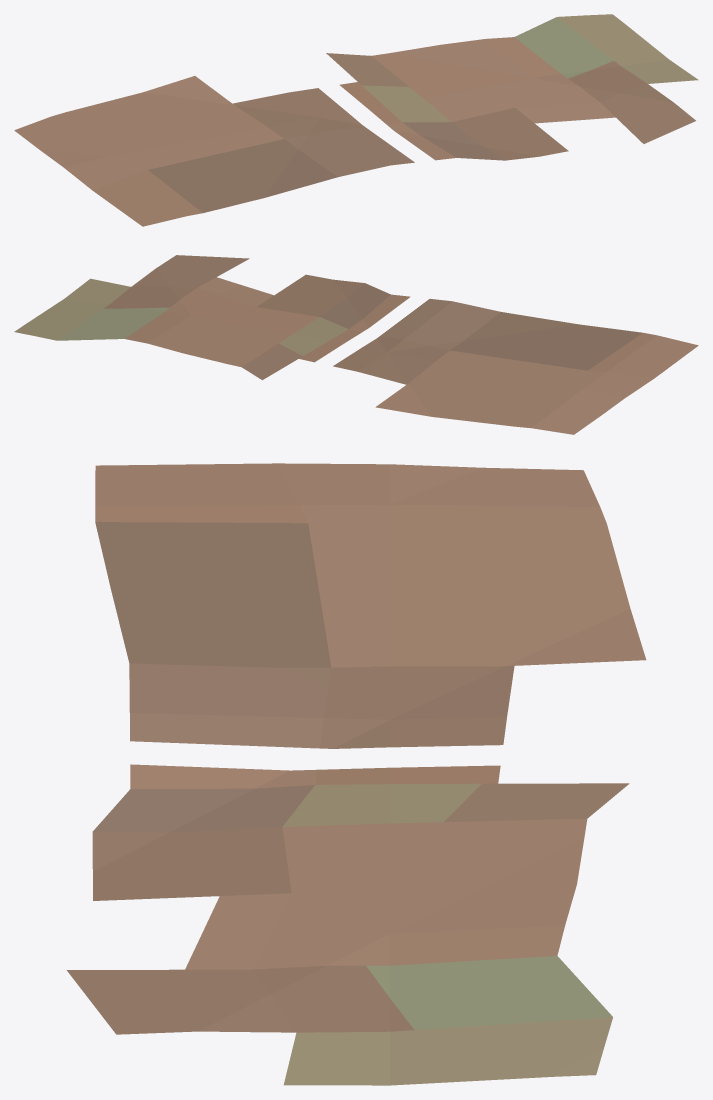
The model's file is farm_4_-7_soil.glb.
3 views of the same model, one above another, from view 1: azimuth 30°, elevation 25°; view 2: azimuth 150°, elevation 25°; view 3: azimuth 270°, elevation 25° (orthographic). The views are drawn at different scales.
Parts seen in each view (by area): view 1: geometry_0; view 2: geometry_0; view 3: geometry_0.
Part boxes in pixels (left/top/right/bottom): geometry_0: left=14, top=14, right=698, bottom=226; geometry_0: left=14, top=255, right=698, bottom=434; geometry_0: left=66, top=463, right=646, bottom=1085.
Size of the model in its own units: 229 by 14.45 by 102.
